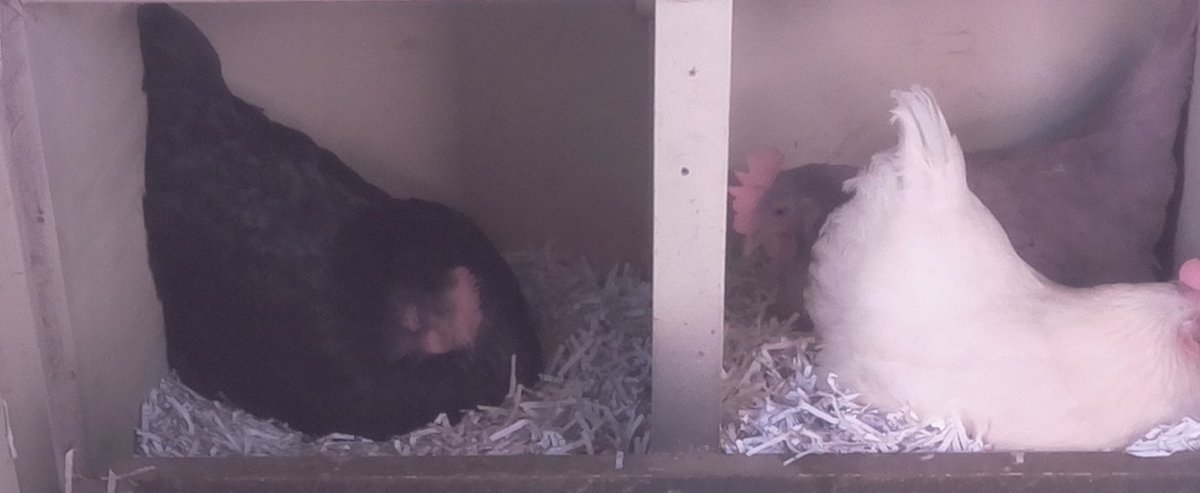hen: (132, 9, 546, 444), (803, 83, 1200, 464), (726, 53, 1191, 287)
